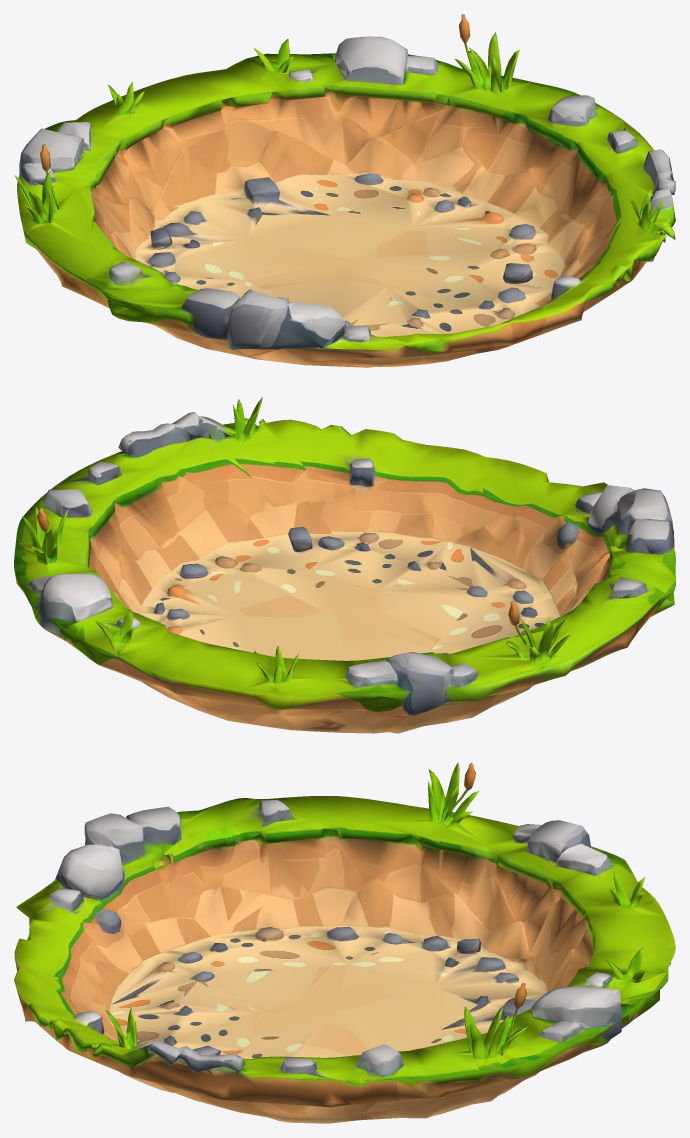
Rendered from lac.glb.
3 views of the same model, one above another, from view 1: azimuth 30°, elevation 25°; view 2: azimuth 150°, elevation 25°; view 3: azimuth 270°, elevation 25° (orthographic). The views are drawn at different scales.
Parts seen in each view (by area): view 1: Mesh_0; view 2: Mesh_0; view 3: Mesh_0.
Boxes of the visible parts, x1,y1,x2,y2 form: Mesh_0: [14, 14, 675, 367]; Mesh_0: [14, 397, 675, 733]; Mesh_0: [14, 762, 675, 1123].
Size of the model in its own units: 1.9 by 0.4815 by 1.85.
1 material, 1 textured.
